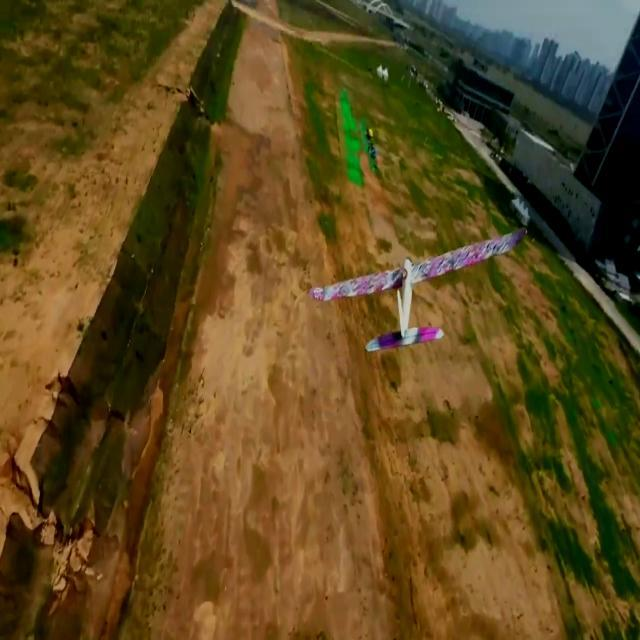iha: (311, 235, 519, 367)
